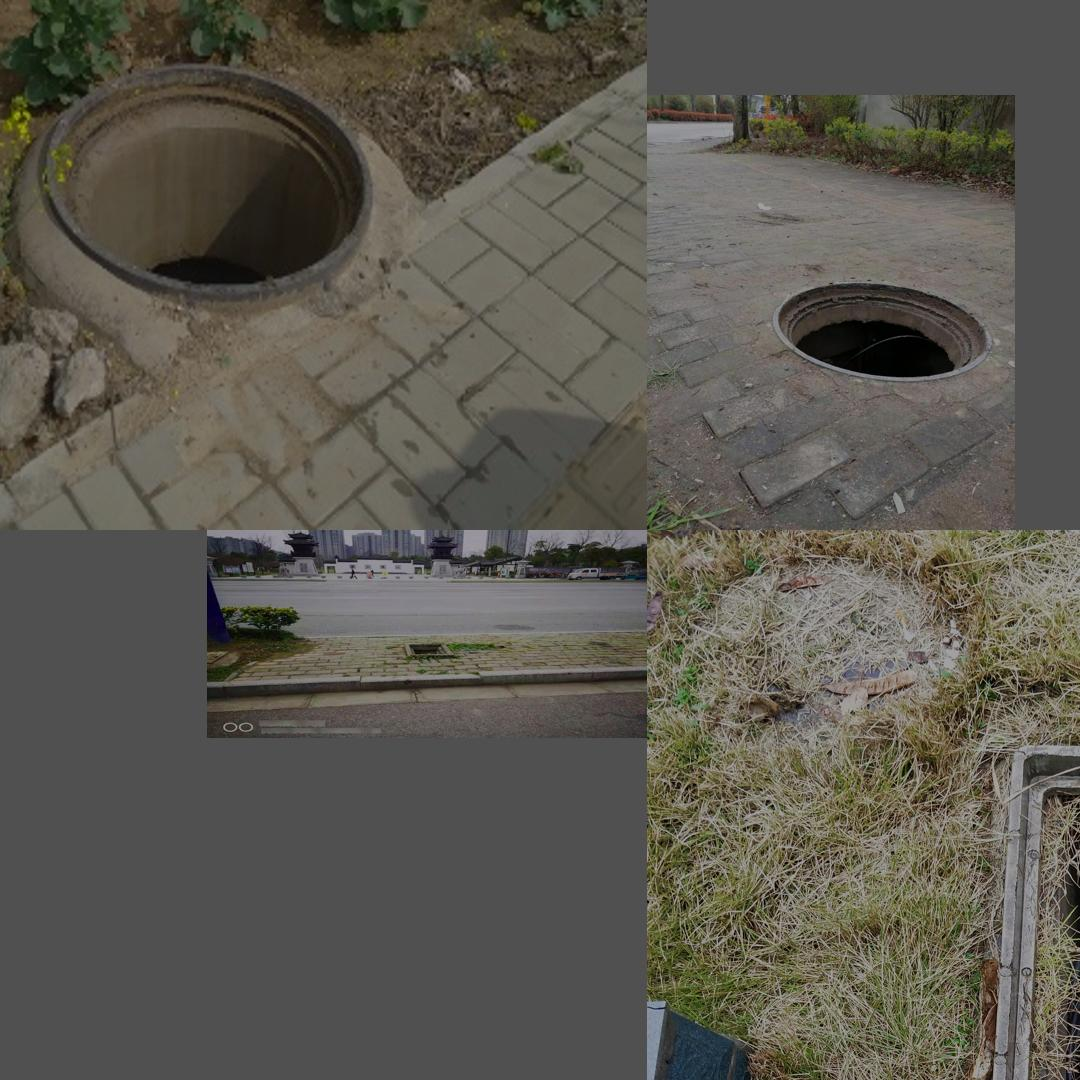lose: (37, 61, 372, 307), (975, 732, 1080, 1080), (772, 278, 991, 379), (404, 641, 454, 656)
